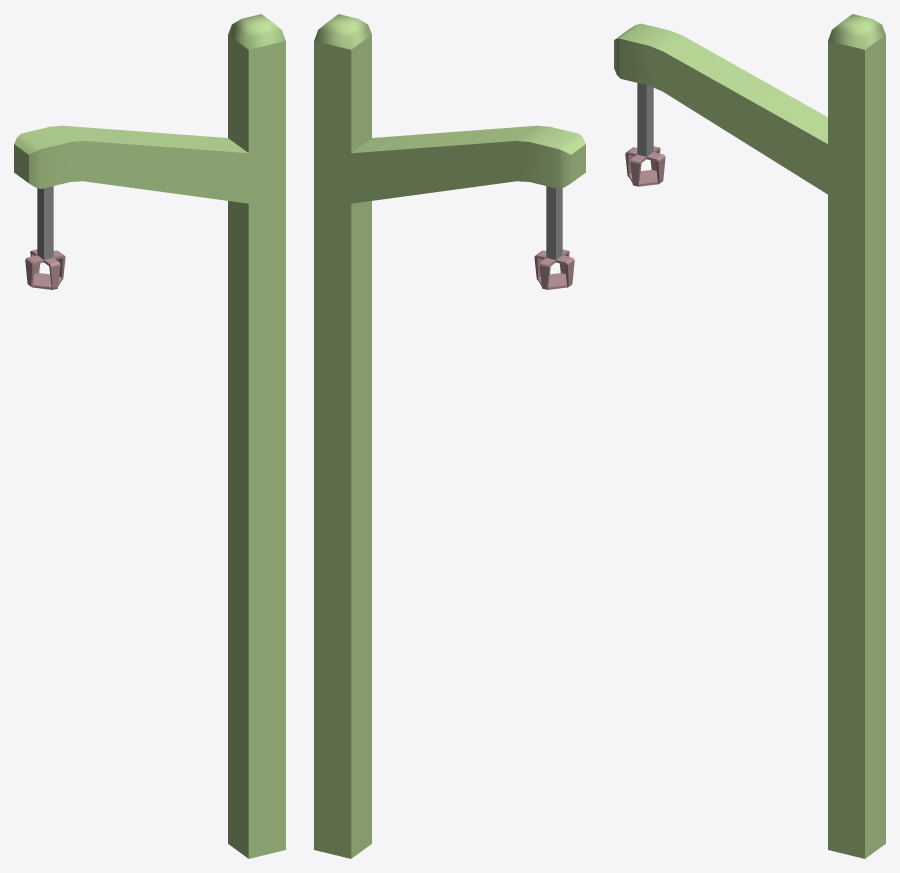
Rendered from lamppost.FBX.
The picture shows the model from 3 angles, left to right: view 1: azimuth 30°, elevation 25°; view 2: azimuth 150°, elevation 25°; view 3: azimuth 330°, elevation 25°; orthographic projection.
Visible parts, largest first — view 1: Box001; view 2: Box001; view 3: Box001.
Part boxes in pixels (x1,y1,x2,y2): Box001: (14, 14, 285, 858); Box001: (314, 14, 585, 858); Box001: (614, 14, 885, 858).
Bounding box in the file's own units: 68.2 × 212 × 9.67.
